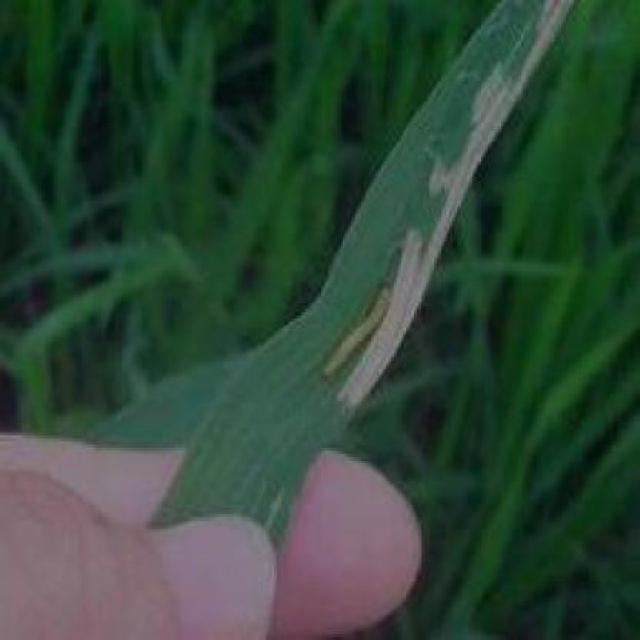leaf-folder: (318, 269, 404, 385)
